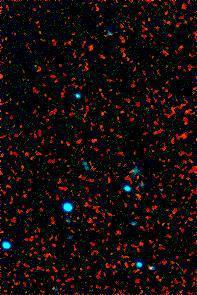star: (122, 181, 152, 211)
